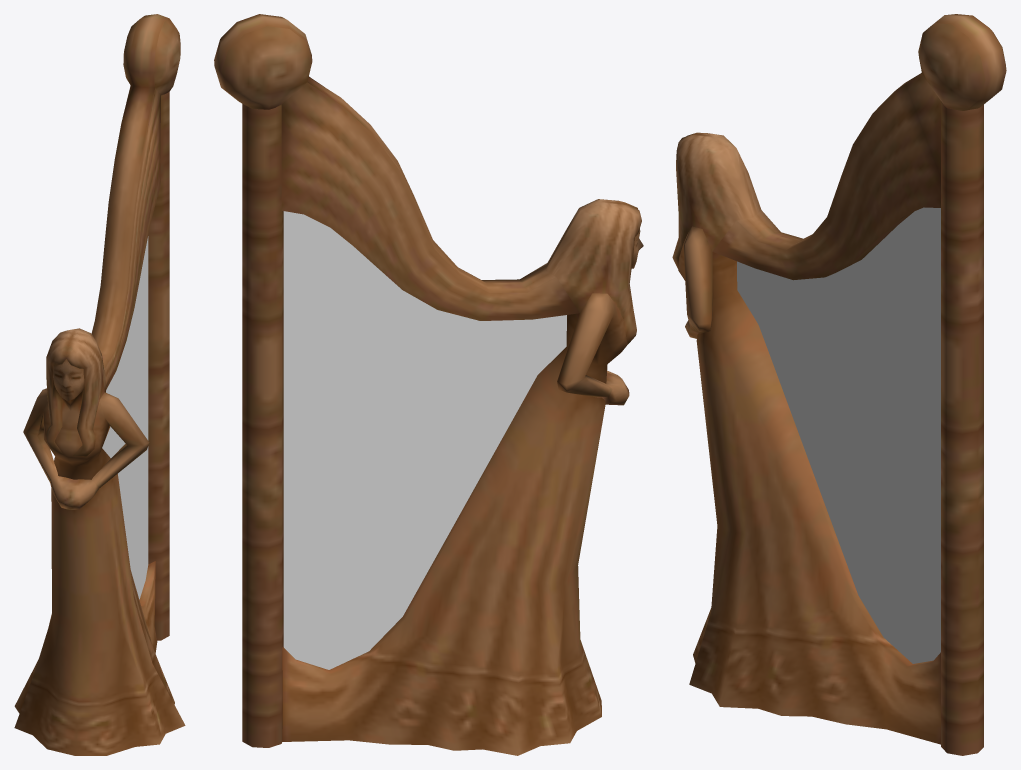
The model's file is int_sgn_Virgo.dae.
3 views of the same model, side by side, from view 1: azimuth 30°, elevation 25°; view 2: azimuth 150°, elevation 25°; view 3: azimuth 270°, elevation 25° (orthographic). The views are drawn at different scales.
Visible parts, largest first — view 1: int_sgn_Virgo; view 2: int_sgn_Virgo; view 3: int_sgn_Virgo.
Part boxes in pixels (x1,y1,x2,y2): int_sgn_Virgo: (14, 14, 185, 755); int_sgn_Virgo: (214, 14, 643, 755); int_sgn_Virgo: (672, 14, 1006, 755).
Bounding box in the file's own units: 21.78 × 52.5 × 21.78.
2 materials, 2 textured.
